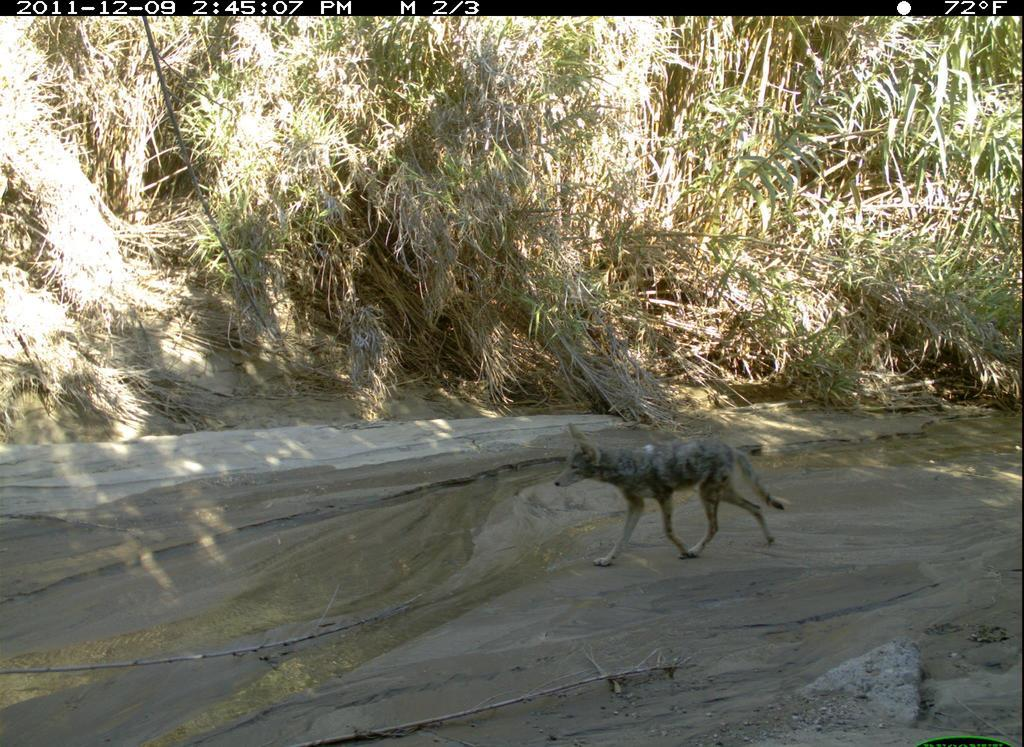coyote: (553, 420, 786, 569)
